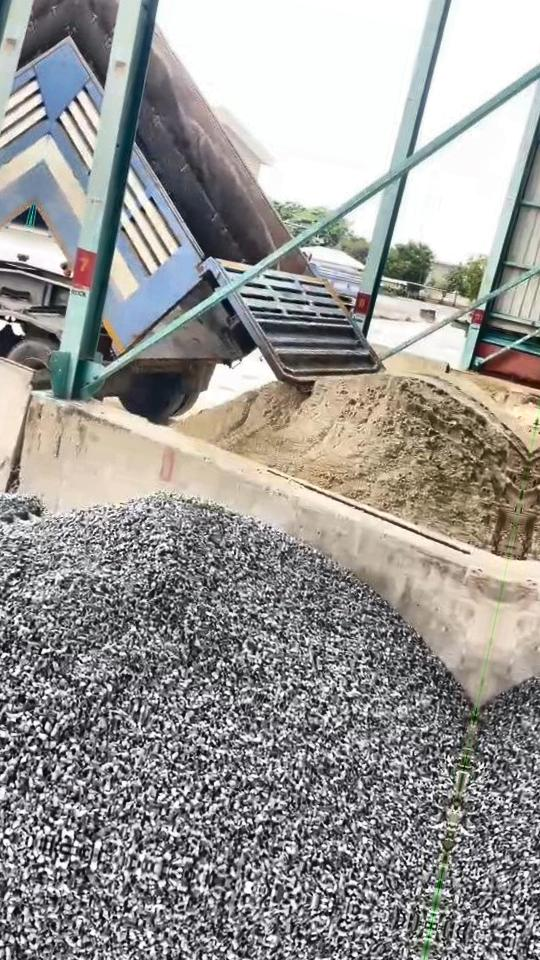gravel: (0, 496, 470, 923), (0, 492, 43, 527)
sand: (175, 371, 529, 554), (451, 378, 539, 449)
